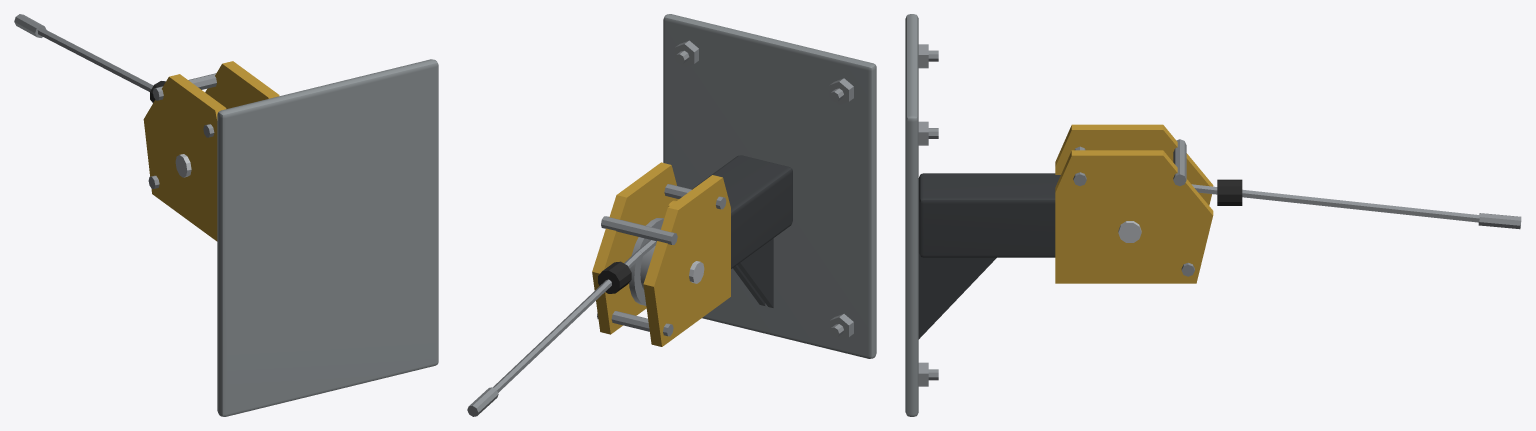
The model's file is prop_zipline_anchor.glb.
The picture shows the model from 3 angles, left to right: view 1: azimuth 30°, elevation 25°; view 2: azimuth 150°, elevation 25°; view 3: azimuth 270°, elevation 25°; orthographic projection. The views are drawn at different scales.
Visible parts, largest first — view 1: Body; view 2: Body; view 3: Body.
Boxes of the visible parts, box(x1,y1,x2,y2) form: Body: box(14, 14, 438, 416); Body: box(467, 14, 876, 416); Body: box(905, 14, 1521, 416).
Bounding box in the file's own units: 0.3 × 0.4 × 0.7408.
